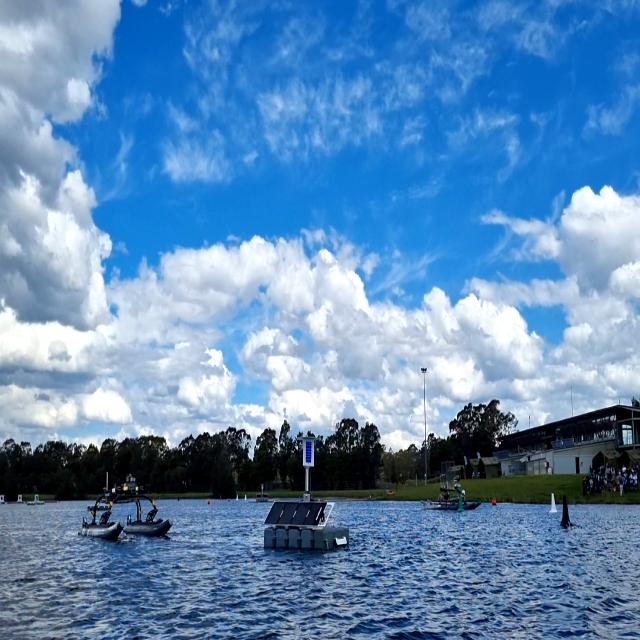led: (304, 440, 313, 464)
